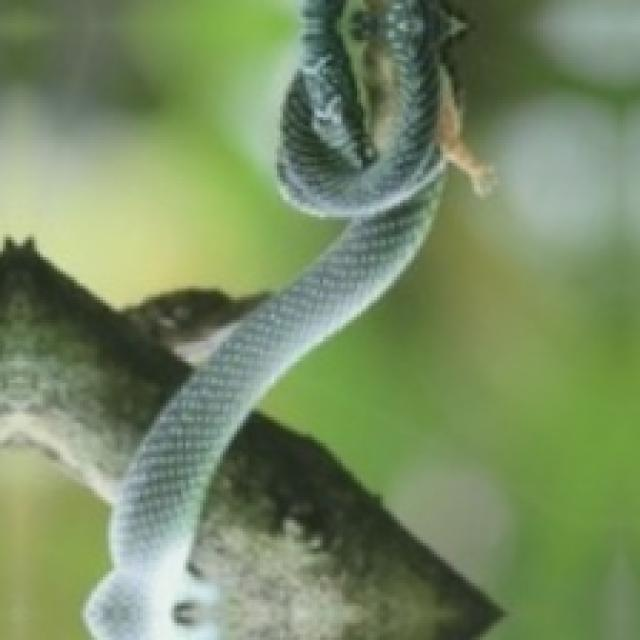paradise tree snake: (86, 0, 491, 637)
